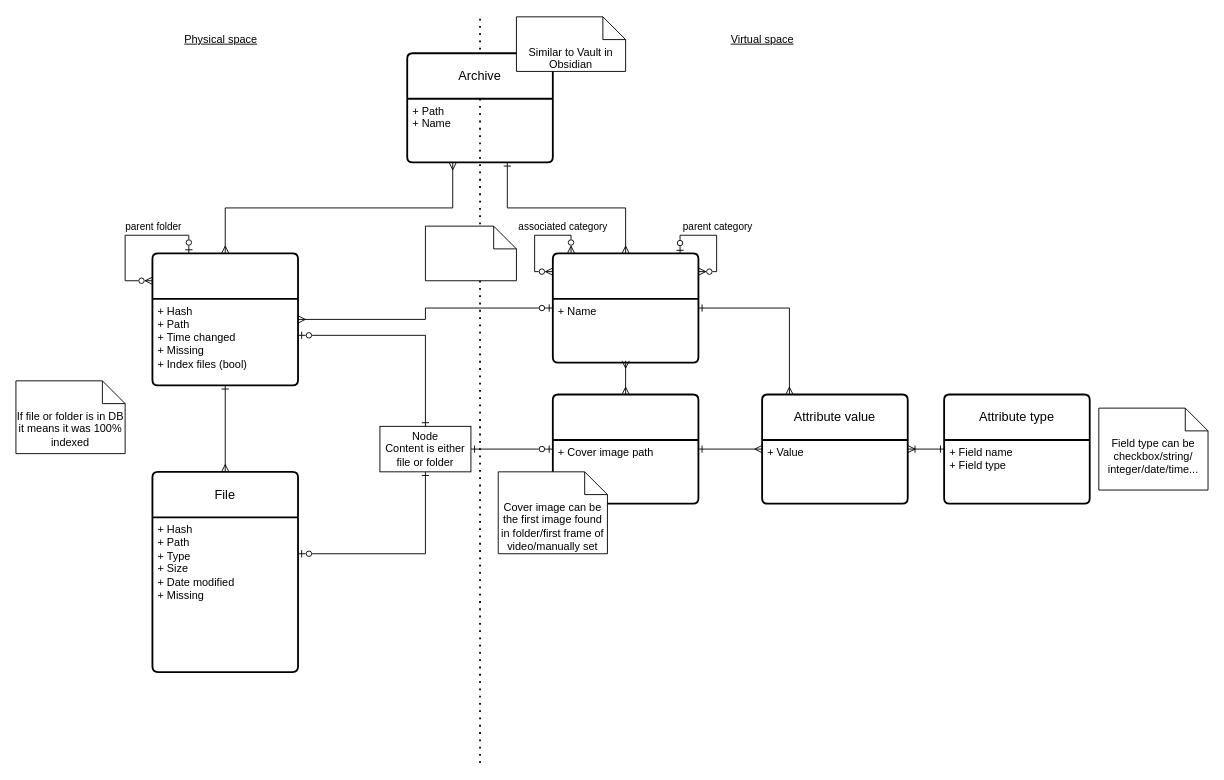
Some shapes in this 1224 by 780 pixel diagram are drawn without their labels. Here are the shapes that lost their labels. From the top down, the box of each, then its label:
(425, 225, 516, 281): This creates cyclic graph
(151, 252, 298, 386): Folder
(551, 252, 699, 363): Category
(551, 393, 699, 504): Content
